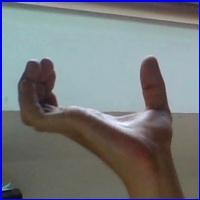B: (11, 44, 179, 177)
